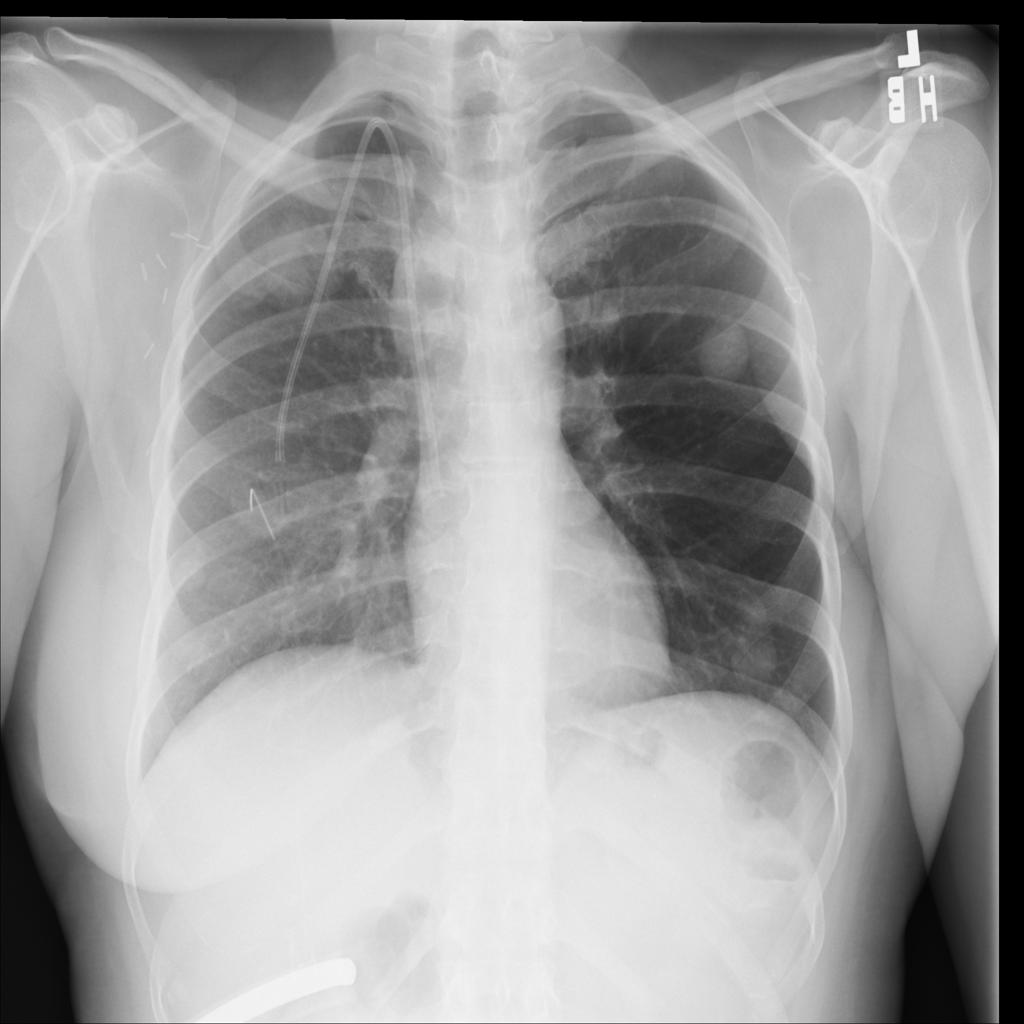nodule: (222, 204, 338, 315), (676, 296, 772, 407), (717, 627, 794, 696), (158, 535, 224, 606), (730, 582, 783, 633), (644, 172, 694, 221)
